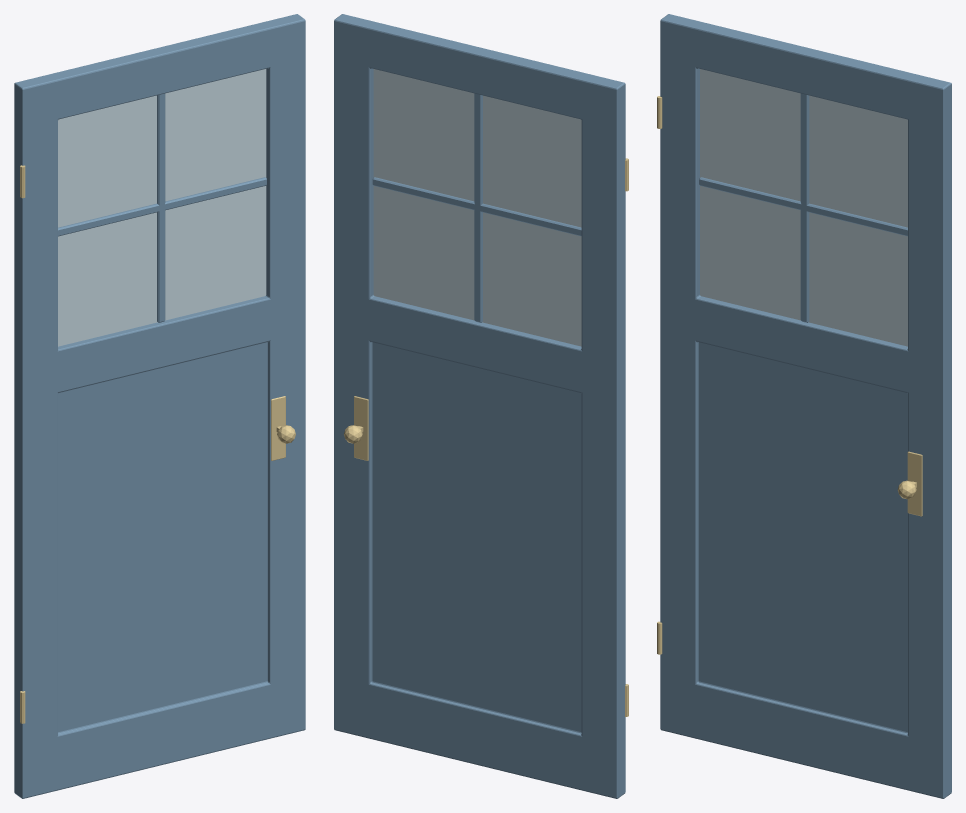
File: door_leaf_back.glb
3 renders of one model, left to right at view 1: azimuth 30°, elevation 25°; view 2: azimuth 150°, elevation 25°; view 3: azimuth 330°, elevation 25°, orthographic.
Visible parts, largest first — view 1: door_leaf_back_door, door_leaf_back_glass, door_leaf_back_brass; view 2: door_leaf_back_door, door_leaf_back_glass, door_leaf_back_brass; view 3: door_leaf_back_door, door_leaf_back_glass, door_leaf_back_brass.
Boxes of the visible parts, left/top/right/bottom form: door_leaf_back_door: left=14, top=14, right=305, bottom=798; door_leaf_back_glass: left=58, top=69, right=266, bottom=346; door_leaf_back_brass: left=20, top=165, right=295, bottom=723; door_leaf_back_door: left=334, top=14, right=625, bottom=798; door_leaf_back_glass: left=373, top=69, right=581, bottom=346; door_leaf_back_brass: left=343, top=158, right=628, bottom=716; door_leaf_back_door: left=660, top=14, right=951, bottom=798; door_leaf_back_glass: left=700, top=69, right=907, bottom=346; door_leaf_back_brass: left=657, top=96, right=922, bottom=654.
Bounding box in the file's own units: 0.968 × 2.3 × 0.206.
